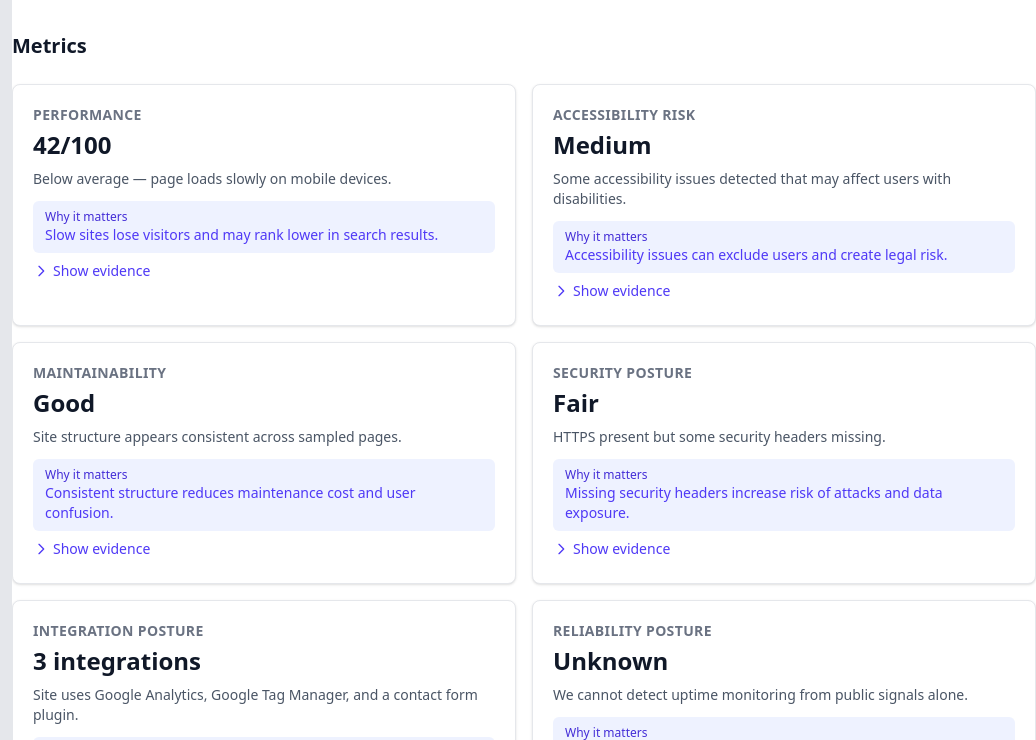
Test: MetricsCards (US-5.3) › evidence section expands on click
Expected: the text "PageSpeed Insights mobile score: 42" is not shown
Click "Show evidence" on the first card (Performance)
Click the button "Show evidence" below "42/100".
click(92, 271)  # box [33,261,150,281]
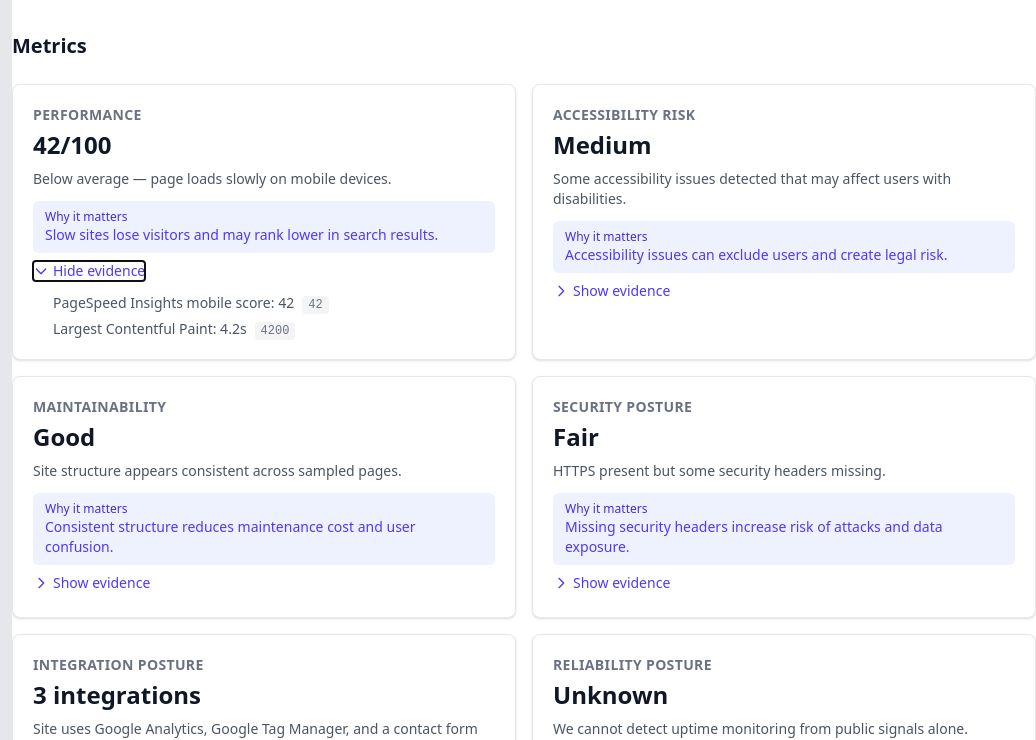
Expected: the text "PageSpeed Insights mobile score: 42" is shown, [53,293,294,312]
Expected: the text "Largest Contentful Paint: 4.2s" is shown, [53,319,247,338]
Expected: the button "Hide evidence" is shown, [33,261,145,281]
